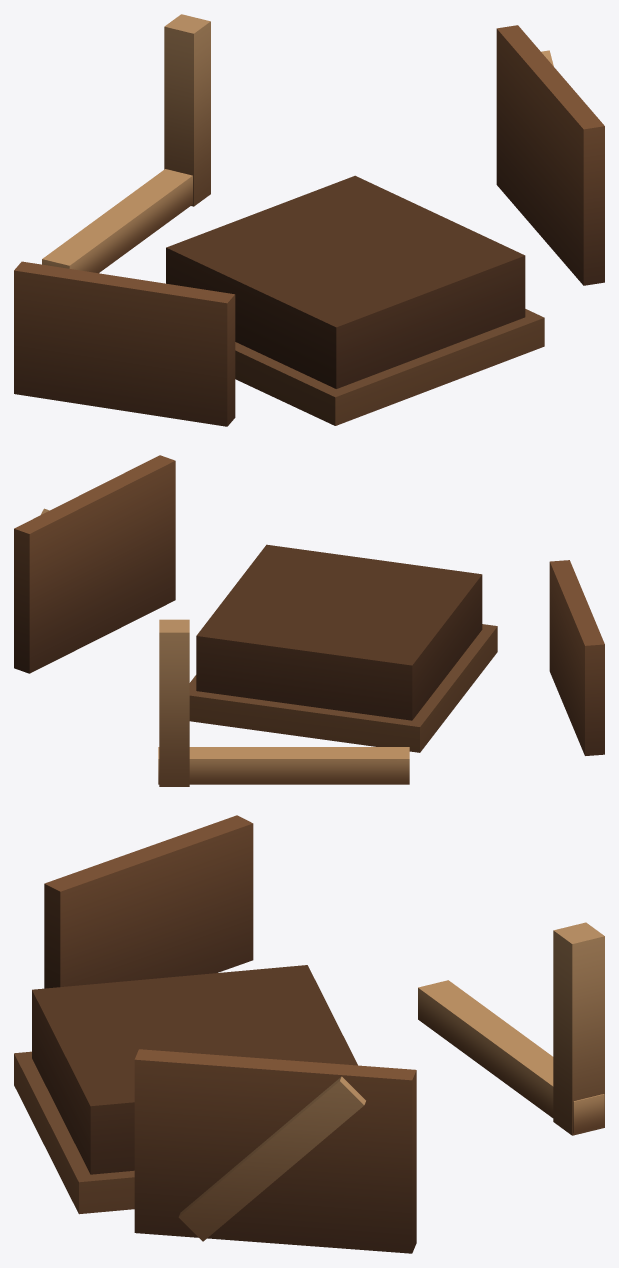
Rendered from PlayGround_Kit_Crate_Broken.fbx.
The picture shows the model from 3 angles, top to bottom: view 1: azimuth 30°, elevation 25°; view 2: azimuth 150°, elevation 25°; view 3: azimuth 270°, elevation 25°; orthographic projection. The views are drawn at different scales.
Parts seen in each view (by area): view 1: PlayGround_Kit_Crate_Broken_1, PlayGround_Kit_Crate_Broken_4, PlayGround_Kit_Crate_Broken_2, PlayGround_Kit_Crate_Broken_3; view 2: PlayGround_Kit_Crate_Broken_1, PlayGround_Kit_Crate_Broken_2, PlayGround_Kit_Crate_Broken_3, PlayGround_Kit_Crate_Broken_4; view 3: PlayGround_Kit_Crate_Broken_2, PlayGround_Kit_Crate_Broken_1, PlayGround_Kit_Crate_Broken_4, PlayGround_Kit_Crate_Broken_3.
Boxes of the visible parts, bbox=[...] form: PlayGround_Kit_Crate_Broken_1: bbox=[166, 175, 544, 425]; PlayGround_Kit_Crate_Broken_4: bbox=[14, 261, 235, 426]; PlayGround_Kit_Crate_Broken_2: bbox=[496, 25, 604, 285]; PlayGround_Kit_Crate_Broken_3: bbox=[42, 14, 210, 273]; PlayGround_Kit_Crate_Broken_1: bbox=[189, 544, 497, 752]; PlayGround_Kit_Crate_Broken_2: bbox=[14, 455, 175, 673]; PlayGround_Kit_Crate_Broken_3: bbox=[158, 619, 409, 786]; PlayGround_Kit_Crate_Broken_4: bbox=[549, 560, 604, 755]; PlayGround_Kit_Crate_Broken_2: bbox=[134, 1049, 416, 1253]; PlayGround_Kit_Crate_Broken_1: bbox=[14, 965, 357, 1214]; PlayGround_Kit_Crate_Broken_4: bbox=[44, 815, 253, 988]; PlayGround_Kit_Crate_Broken_3: bbox=[418, 922, 604, 1135].
Size of the model in its own units: 1.49 by 0.46 by 1.17.
